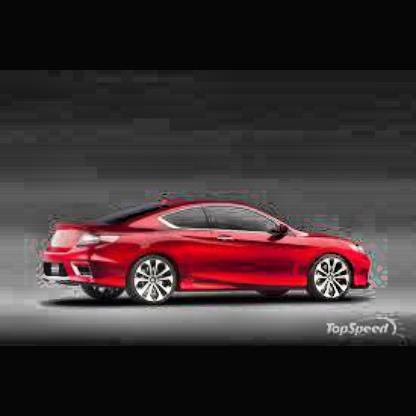Honda Accord Coupe 2012: (46, 197, 372, 305)
